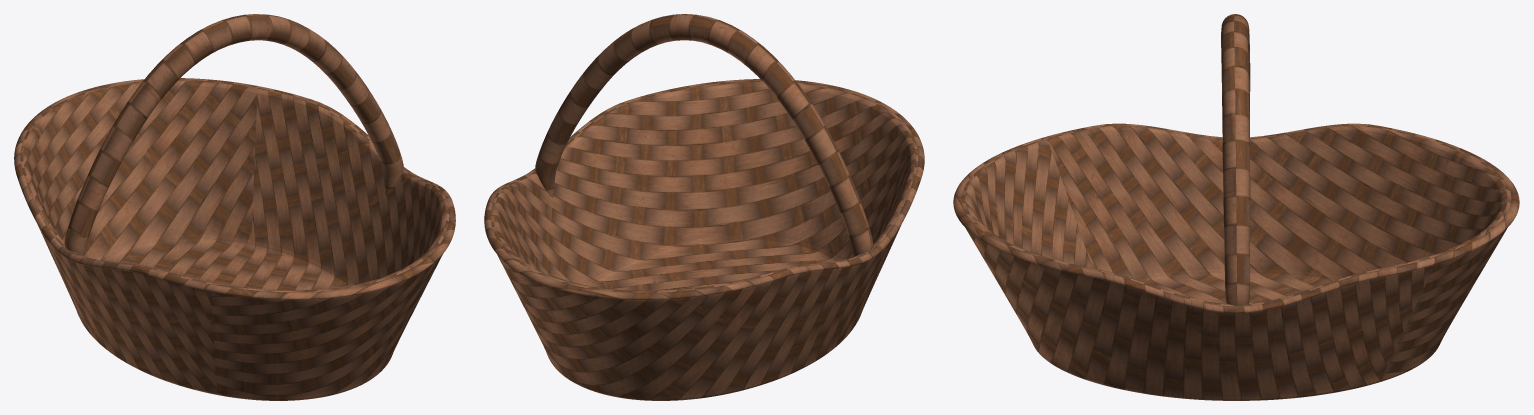
Rendered from basket1.fbx.
3 views of the same model, side by side, from view 1: azimuth 30°, elevation 25°; view 2: azimuth 150°, elevation 25°; view 3: azimuth 270°, elevation 25° (orthographic). The views are drawn at different scales.
Visible parts, largest first — view 1: BezierCurve, BezierCurve.002; view 2: BezierCurve, BezierCurve.002; view 3: BezierCurve, BezierCurve.002.
Boxes of the visible parts, x1,y1,x2,y2 form: BezierCurve: [14, 78, 455, 400]; BezierCurve.002: [64, 14, 403, 255]; BezierCurve: [484, 79, 924, 400]; BezierCurve.002: [535, 14, 873, 256]; BezierCurve: [953, 123, 1519, 400]; BezierCurve.002: [1221, 14, 1250, 305].
Size of the model in its own units: 33.39 by 28.47 by 46.36.
1 material, 1 textured.
